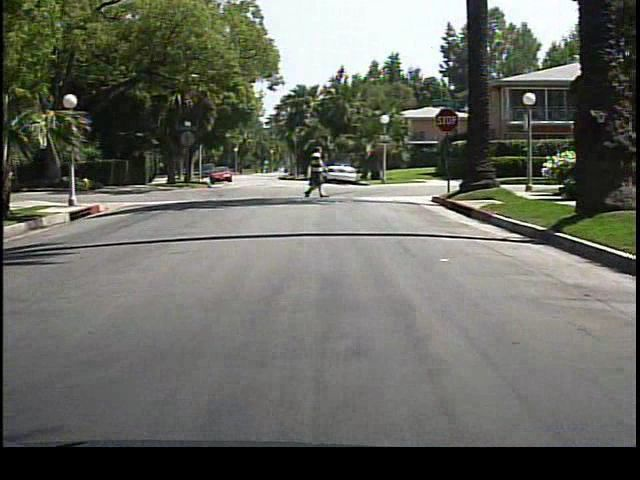person: (301, 146, 325, 200)
